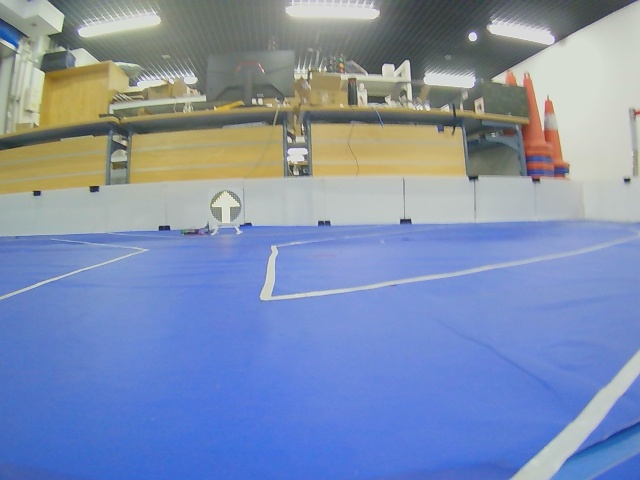straight_yellow: (210, 190, 242, 224)
